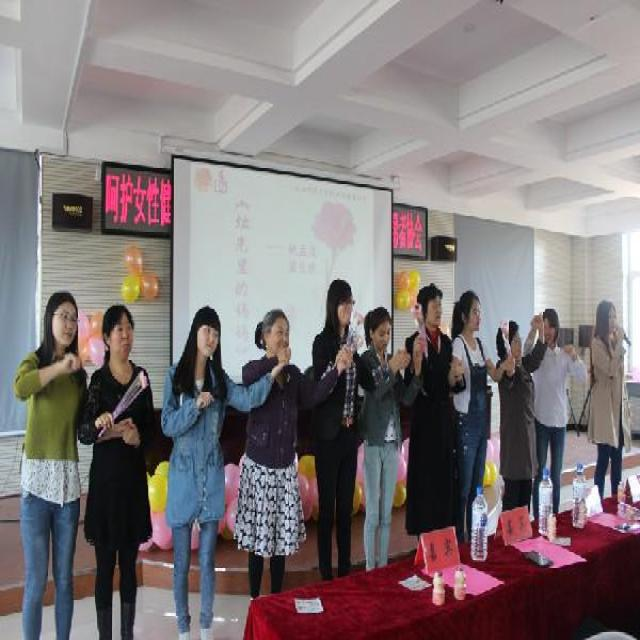non-fight: (12, 286, 90, 638), (162, 304, 237, 638), (237, 304, 303, 638), (404, 283, 469, 603), (351, 302, 406, 574), (524, 302, 579, 546), (586, 299, 629, 523)
